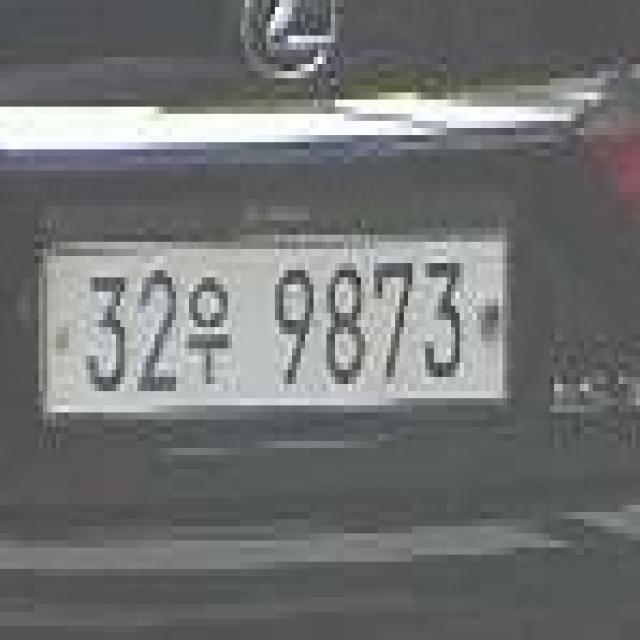2: (134, 263, 180, 391)
3: (421, 256, 464, 384), (90, 263, 129, 398)
7: (369, 249, 416, 384)
8: (322, 256, 370, 384)
9: (270, 263, 318, 384)
license_plate: (39, 242, 507, 412)
u: (185, 270, 232, 391)
